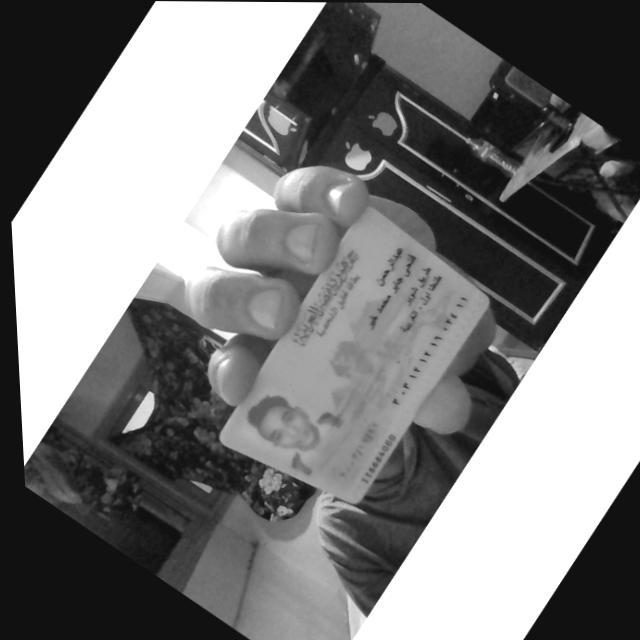front: (218, 206, 487, 502)
